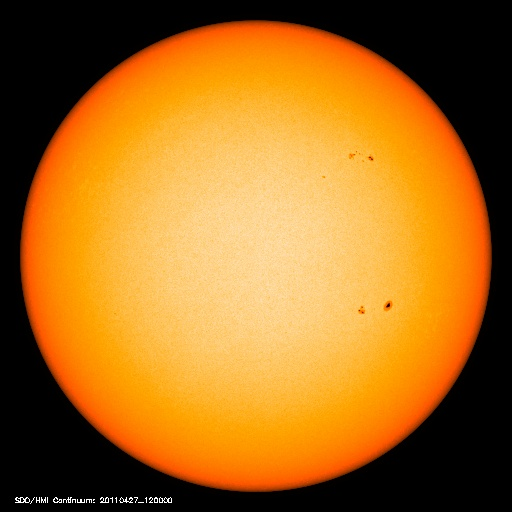sunspot: (316, 142, 384, 183), (348, 289, 403, 325)
